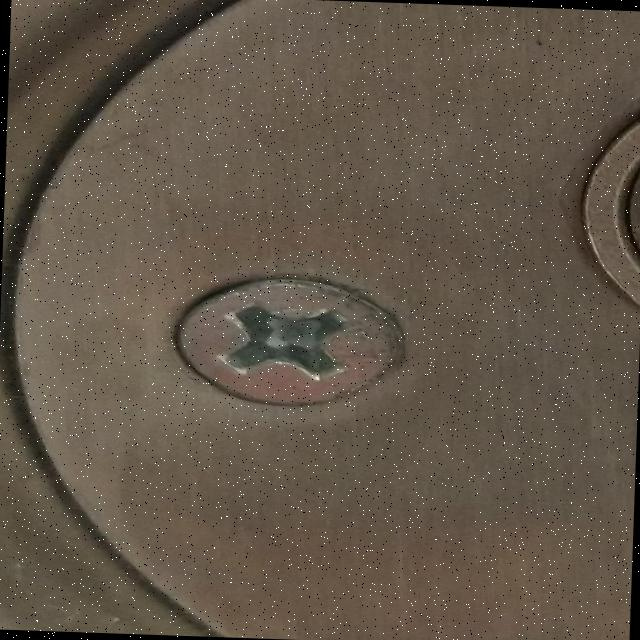Phillips: (170, 266, 397, 402)
